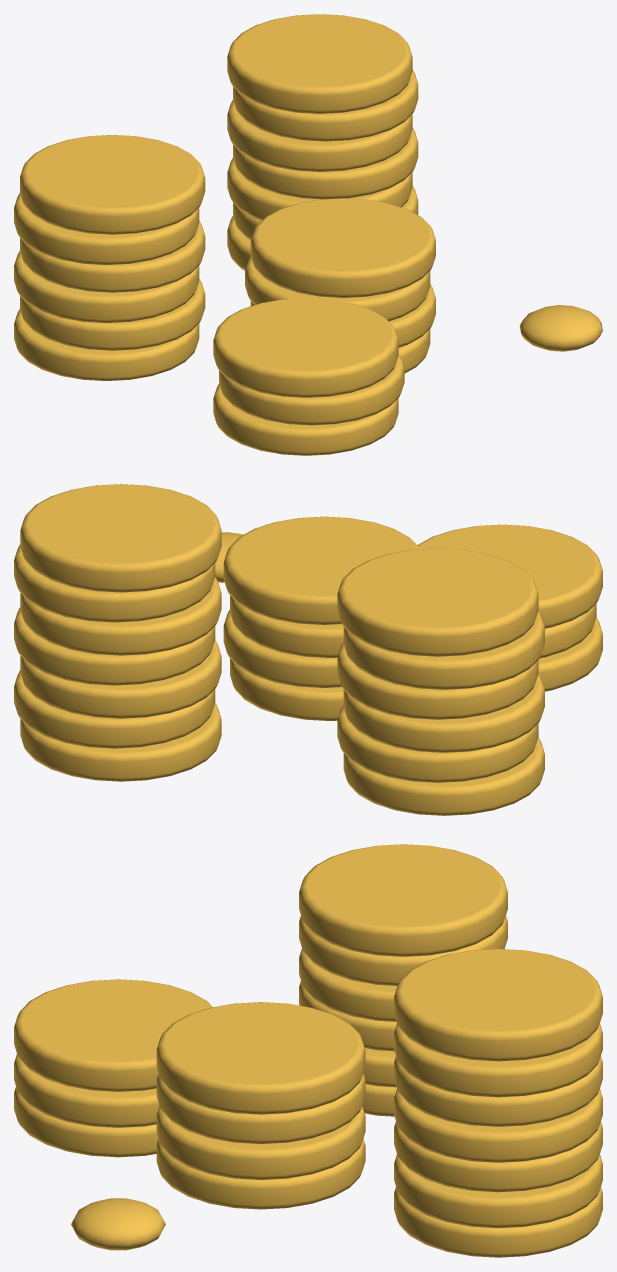
The model's file is corner_payday.glb.
The picture shows the model from 3 angles, top to bottom: view 1: azimuth 30°, elevation 25°; view 2: azimuth 150°, elevation 25°; view 3: azimuth 270°, elevation 25°; orthographic projection. The views are drawn at different scales.
Parts seen in each view (by area): view 1: Cone; view 2: Cone; view 3: Cone.
Boxes of the visible parts, <box> form: Cone: <box>14,14,602,455</box>; Cone: <box>14,484,602,815</box>; Cone: <box>14,844,602,1257</box>.
Bounding box in the file's own units: 0.6087 × 0.263 × 0.62.
